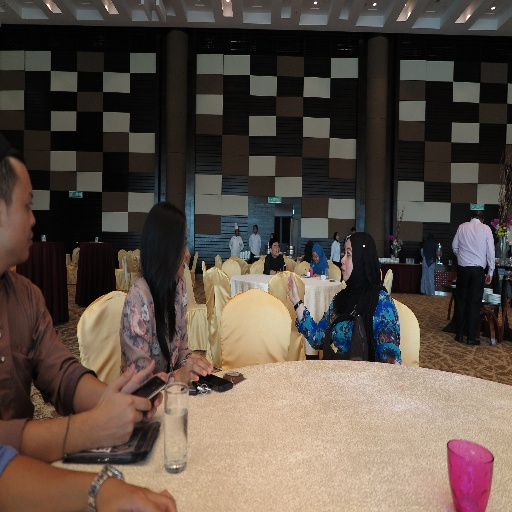hand: (27, 364, 147, 450), (117, 358, 168, 423), (95, 475, 178, 511), (174, 351, 215, 387), (284, 268, 299, 305)
